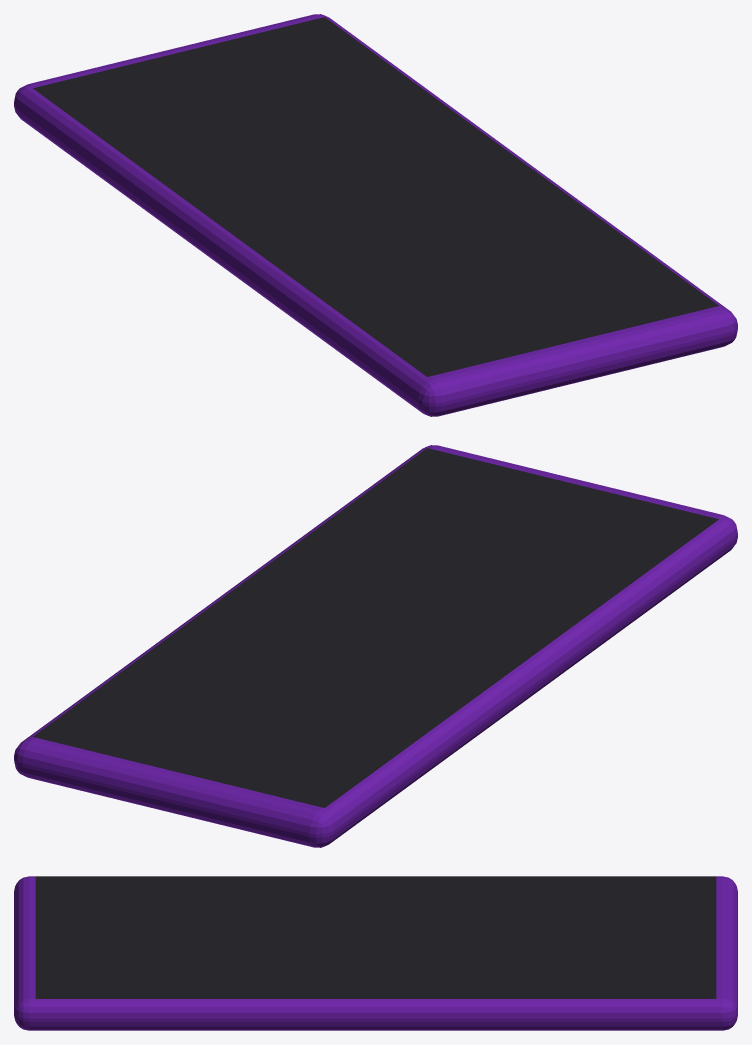
Rendered from Phone_522.glb.
3 views of the same model, one above another, from view 1: azimuth 30°, elevation 25°; view 2: azimuth 150°, elevation 25°; view 3: azimuth 270°, elevation 25° (orthographic). The views are drawn at different scales.
Visible parts, largest first — view 1: Phone_Screen, Phone_Body; view 2: Phone_Screen, Phone_Body; view 3: Phone_Screen, Phone_Body.
Part boxes in pixels (<box>): Phone_Screen: <box>33,17,718,376</box>; Phone_Body: <box>14,14,737,416</box>; Phone_Screen: <box>33,448,718,807</box>; Phone_Body: <box>14,445,737,847</box>; Phone_Screen: <box>35,876,716,998</box>; Phone_Body: <box>14,876,737,1030</box>.
Size of the model in its own units: 0.0714 by 0.0078 by 0.1635.
